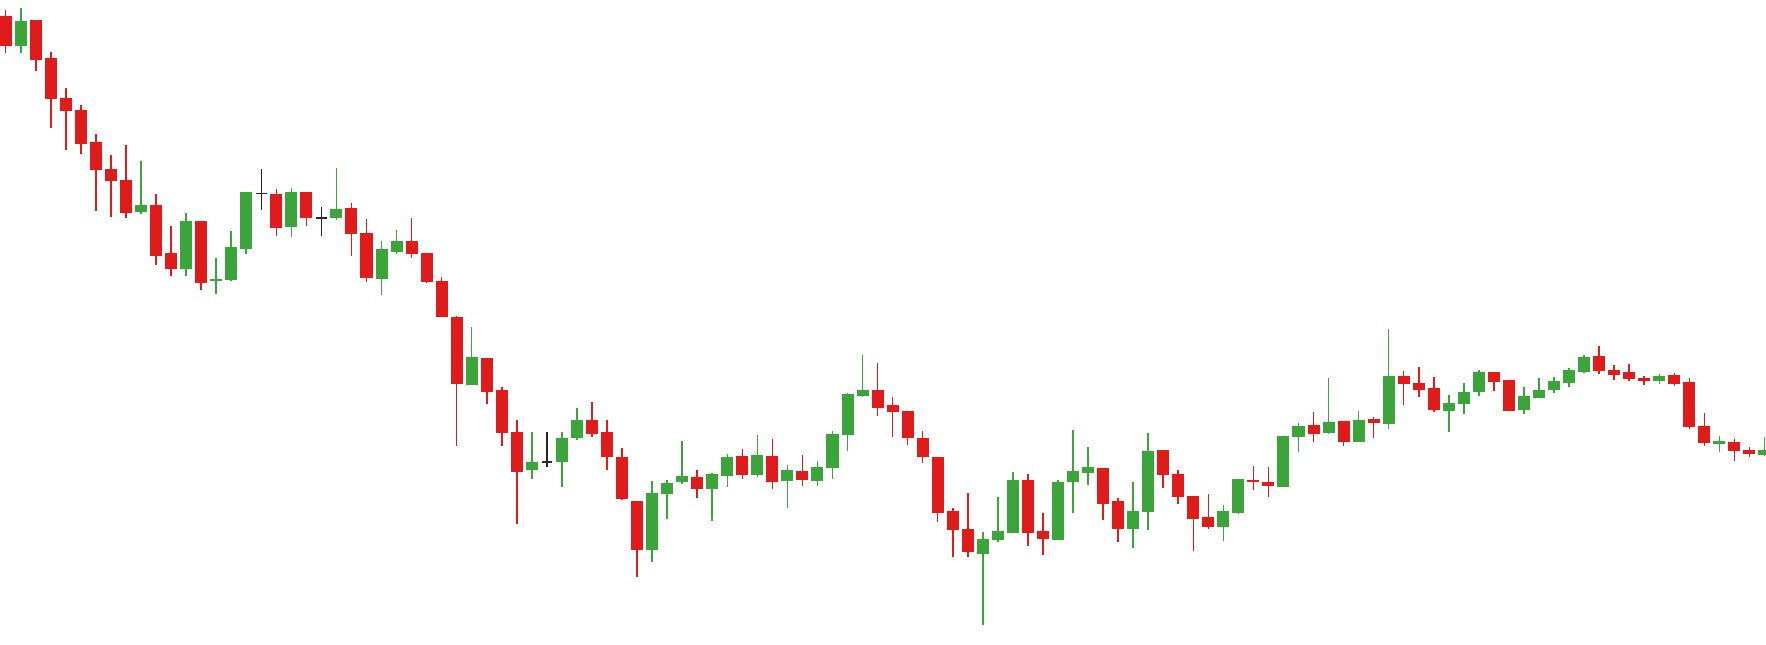buy: (631, 472, 993, 628), (1127, 481, 1204, 554)
